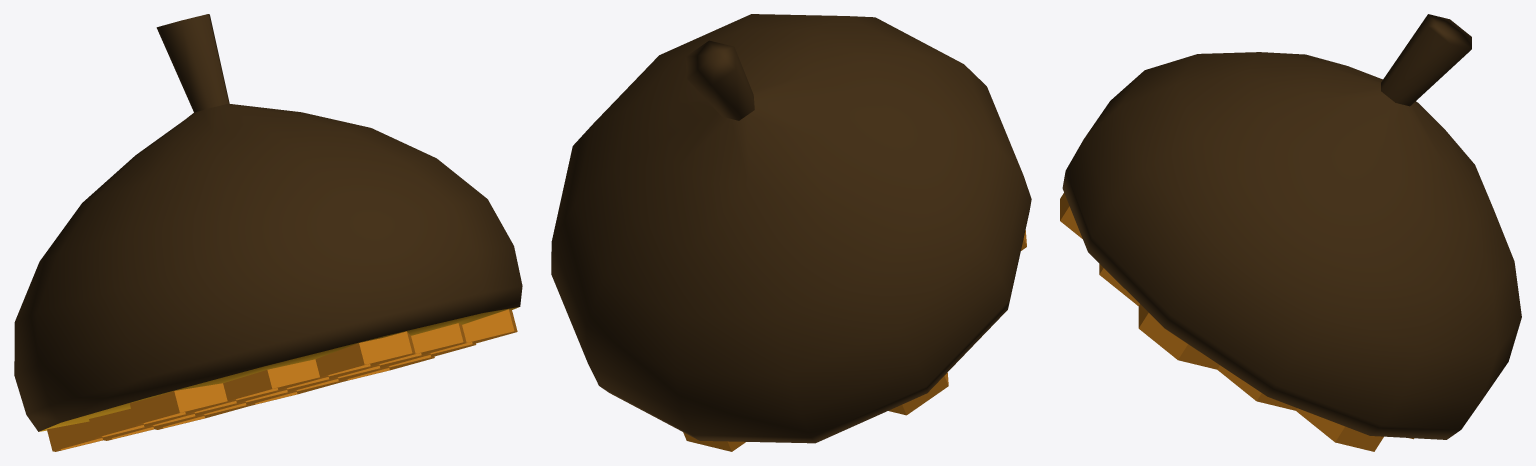
Rendered from beehouse.fbx.
3 views of the same model, side by side, from view 1: azimuth 30°, elevation 25°; view 2: azimuth 150°, elevation 25°; view 3: azimuth 270°, elevation 25° (orthographic). The views are drawn at different scales.
Visible parts, largest first — view 1: pCone2; view 2: pCone2; view 3: pCone2.
Part boxes in pixels (box(x1,y1,x2,y2)): pCone2: box(14, 14, 522, 451); pCone2: box(551, 14, 1031, 451); pCone2: box(1060, 14, 1521, 451).
Bounding box in the file's own units: 946 × 833 × 882.
1 material, 1 textured.
